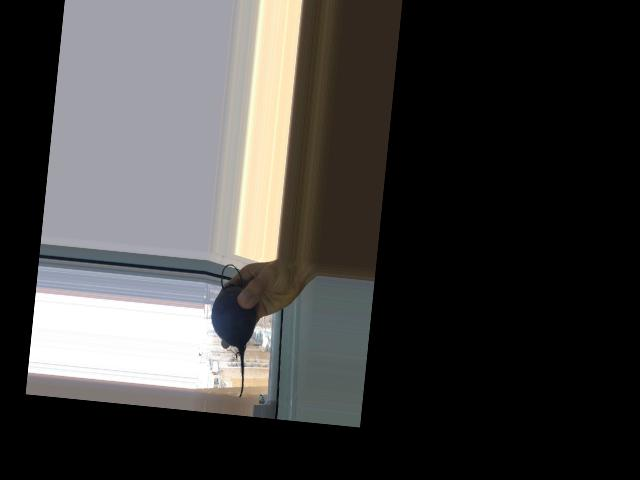beet: (203, 263, 261, 398)
